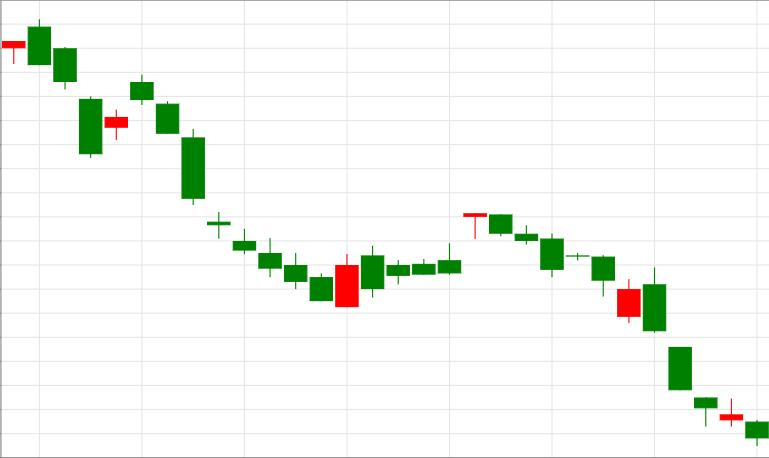bullish_engulfing_rise: (129, 75, 358, 308)
